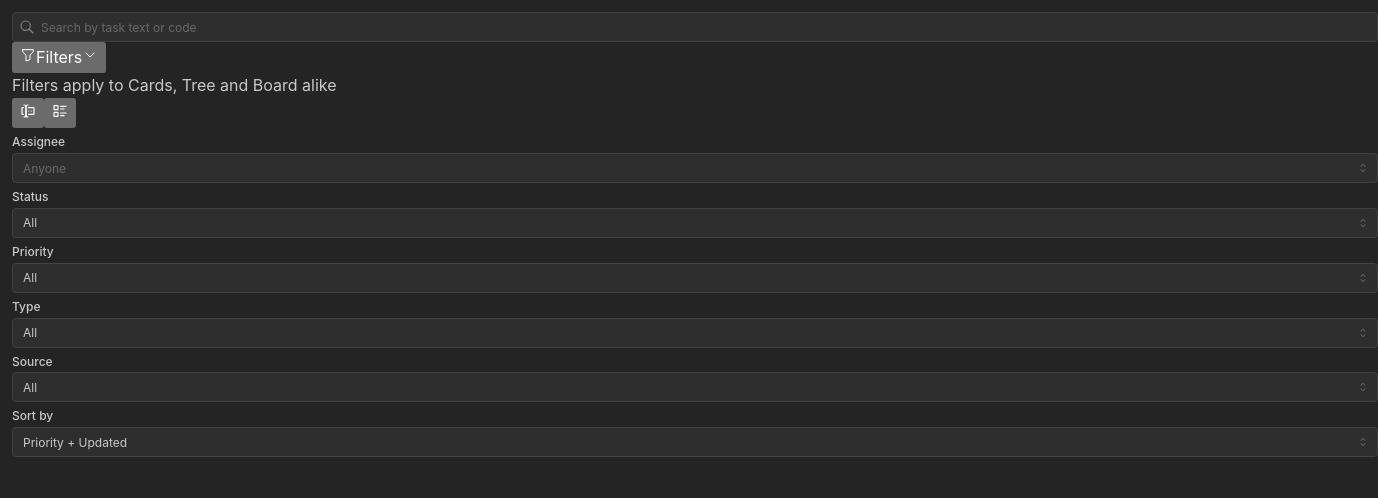
Test case: TaskFilters — sk-194.5.2.8.1 assignee options are built lazily › opening materialises the list, capped at the dropdown limit
Click the field labelled "Assignee". click: x=695, y=168
box: [12, 153, 1377, 183]
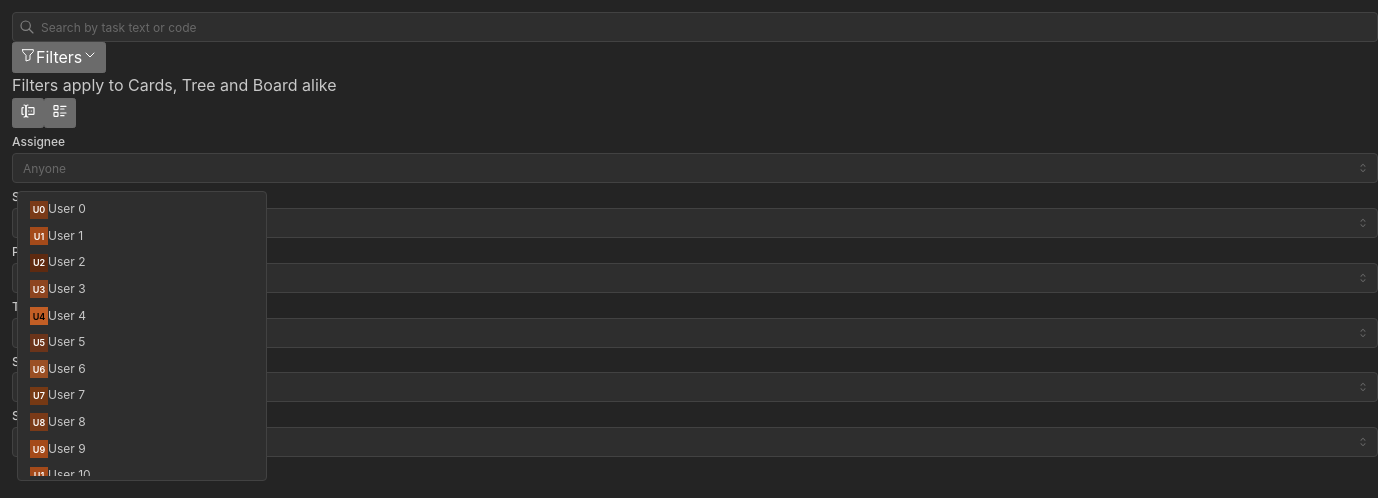
Now the option "U0 User 0" is shown, box [30, 201, 86, 219]
